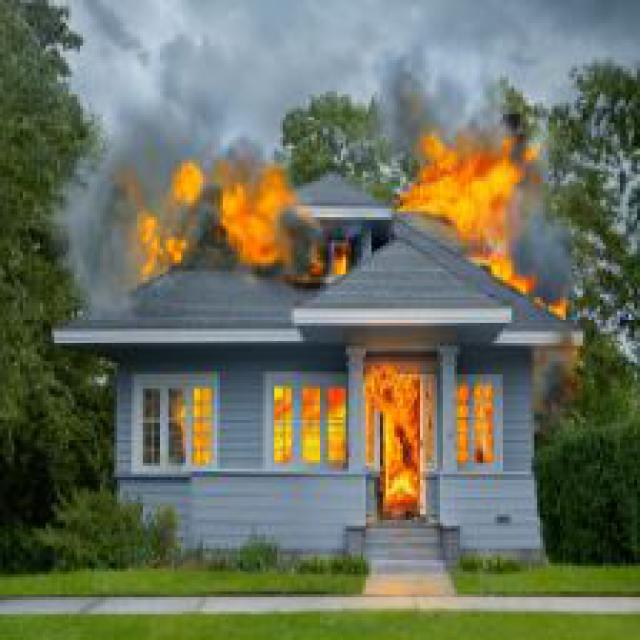fire: (403, 114, 557, 294), (123, 146, 306, 286), (363, 360, 437, 520)
